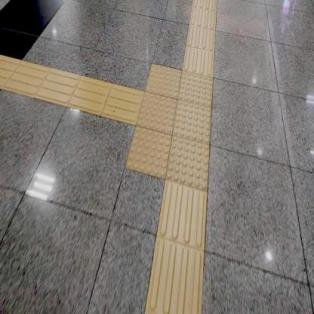Podoctatil: (117, 44, 238, 214), (0, 52, 135, 126), (140, 192, 209, 314), (182, 0, 220, 72)
